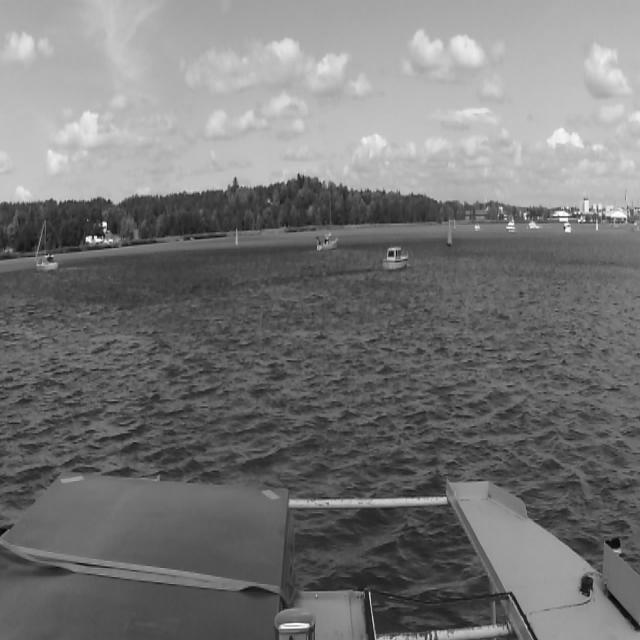buoy: (447, 218, 452, 245), (594, 214, 598, 231), (236, 228, 238, 246), (454, 220, 456, 230)
ship: (316, 184, 338, 250), (35, 220, 57, 270), (384, 245, 408, 268), (526, 216, 539, 230), (562, 220, 572, 233), (506, 221, 516, 233), (472, 221, 482, 231)
